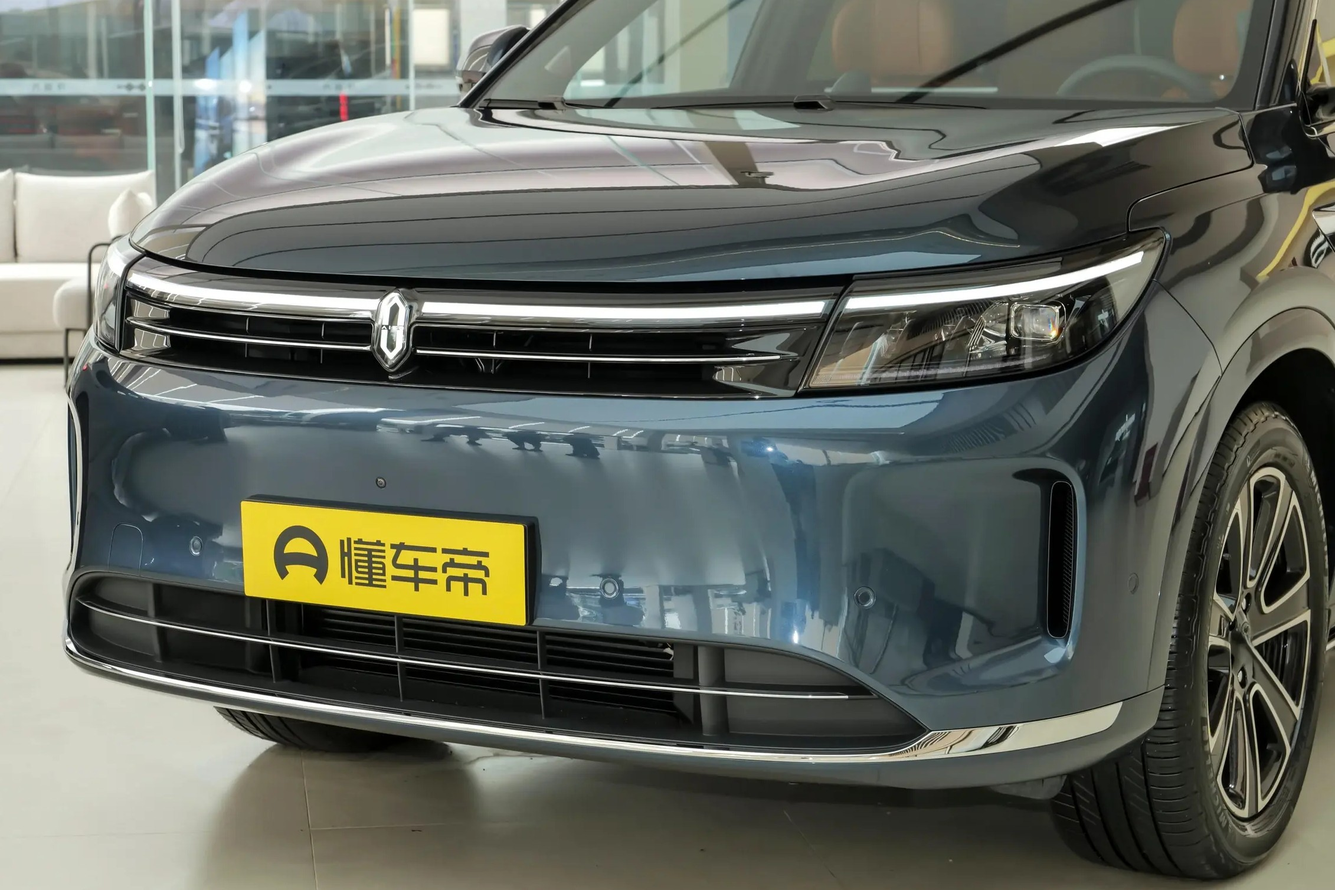AITO: (381, 296, 404, 358)
